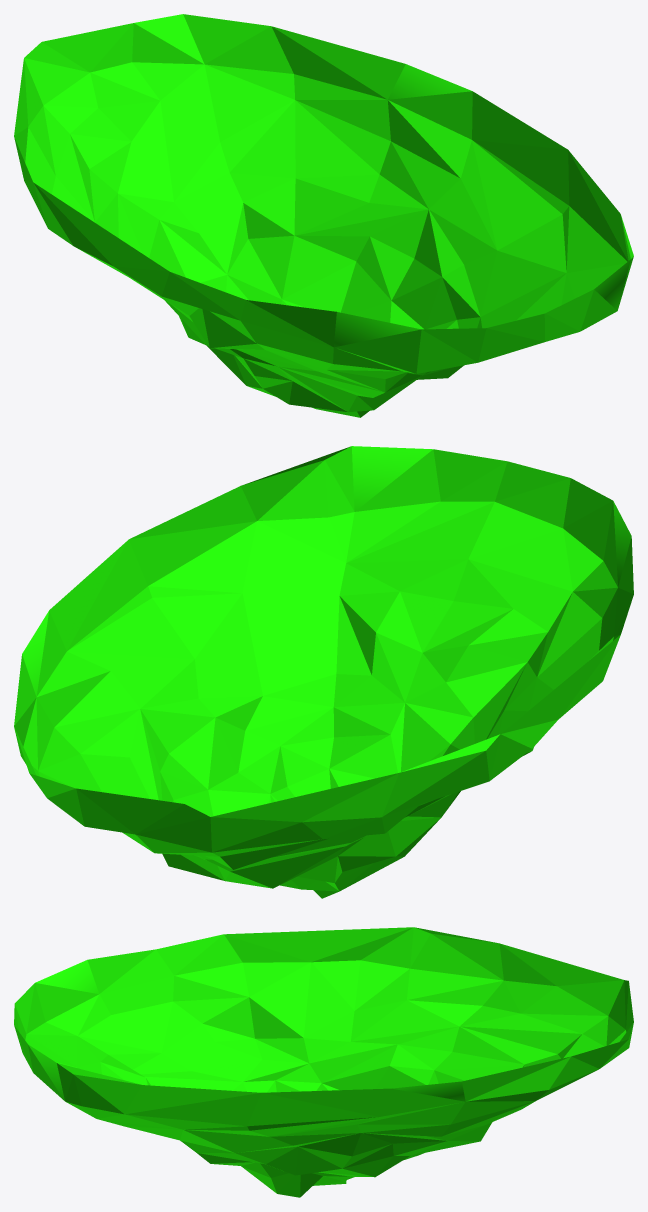
The model's file is 3thirdIsland-bottom.obj.
3 renders of one model, top to bottom at view 1: azimuth 30°, elevation 25°; view 2: azimuth 150°, elevation 25°; view 3: azimuth 270°, elevation 25°, orthographic. The views are drawn at different scales.
Parts seen in each view (by area): view 1: Mechanic_island.004; view 2: Mechanic_island.004; view 3: Mechanic_island.004.
Boxes of the visible parts, x1=… form: Mechanic_island.004: x1=14, y1=14, x2=633, y2=417; Mechanic_island.004: x1=14, y1=446, x2=633, y2=898; Mechanic_island.004: x1=14, y1=927, x2=633, y2=1197.
Size of the model in its own units: 103 by 52.94 by 164.
